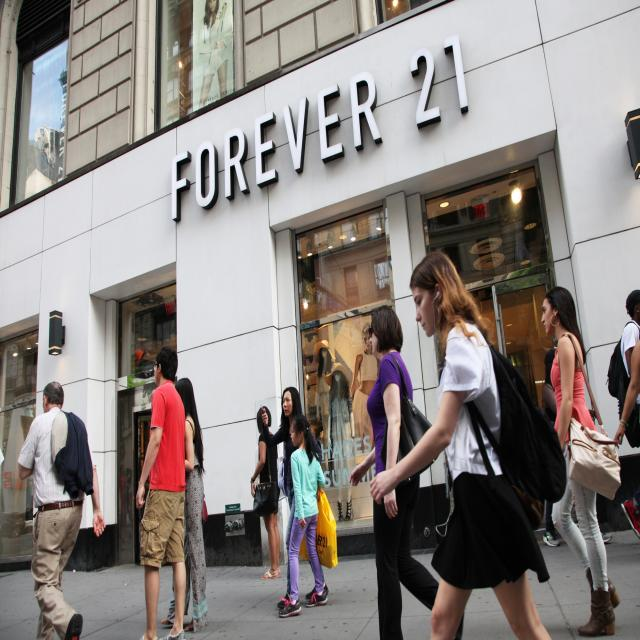body: (367, 247, 567, 640), (347, 303, 468, 639), (539, 284, 624, 639), (17, 379, 108, 639), (260, 384, 339, 610), (134, 344, 187, 640), (550, 340, 616, 550), (309, 314, 386, 492), (160, 376, 211, 634), (277, 413, 329, 618), (249, 404, 283, 582), (606, 289, 640, 449), (610, 334, 640, 454), (198, 0, 228, 109)
